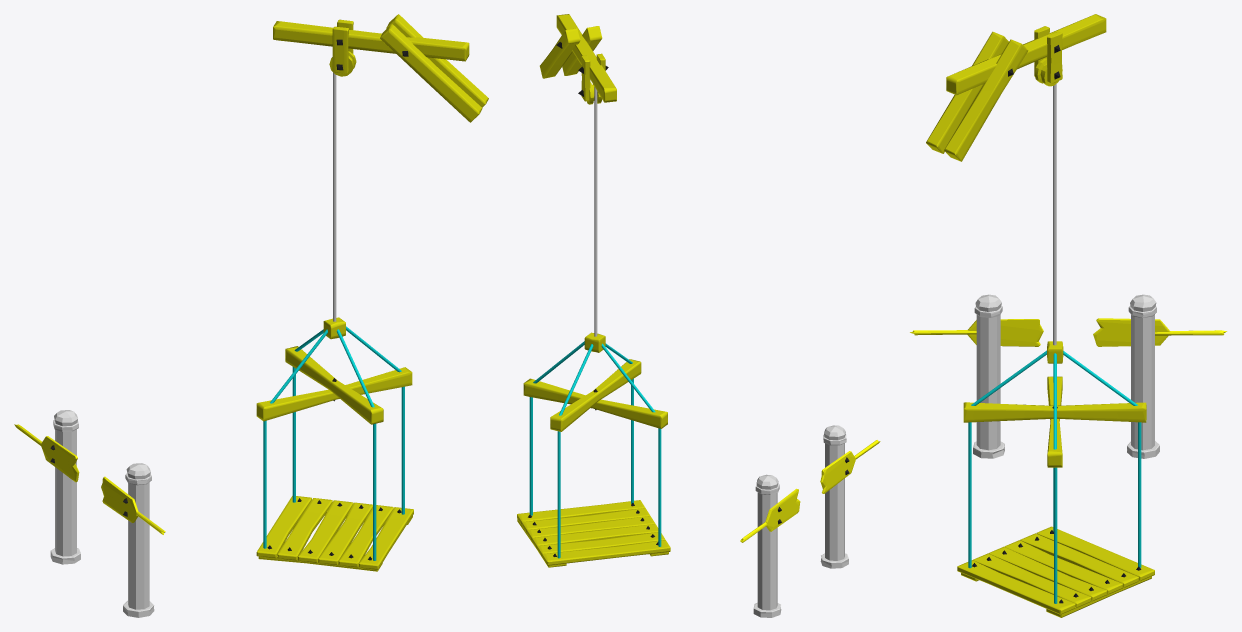
Rendered from ElevatorAndSignsUVGRP.fbx.
The picture shows the model from 3 angles, left to right: view 1: azimuth 30°, elevation 25°; view 2: azimuth 150°, elevation 25°; view 3: azimuth 270°, elevation 25°; orthographic projection. The views are drawn at different scales.
Parts seen in each view (by area): view 1: ElevatorLift, ElevatorSupport, LeftSign, RightSign, ElevatorRope; view 2: ElevatorLift, RightSign, ElevatorSupport, LeftSign, ElevatorRope; view 3: ElevatorLift, ElevatorSupport, RightSign, LeftSign, ElevatorRope.
Boxes of the visible parts, left/top/right/bottom form: ElevatorLift: left=256, top=317, right=413, bottom=571; ElevatorSupport: left=273, top=14, right=488, bottom=122; LeftSign: left=101, top=463, right=165, bottom=617; RightSign: left=14, top=410, right=80, bottom=564; ElevatorRope: left=333, top=72, right=336, bottom=321; ElevatorLift: left=517, top=332, right=670, bottom=567; RightSign: left=740, top=474, right=800, bottom=617; ElevatorSupport: left=539, top=14, right=616, bottom=104; LeftSign: left=820, top=425, right=880, bottom=568; ElevatorRope: left=594, top=86, right=597, bottom=336; ElevatorLift: left=957, top=341, right=1154, bottom=617; ElevatorSupport: left=926, top=14, right=1106, bottom=161; RightSign: left=1093, top=294, right=1226, bottom=458; LeftSign: left=910, top=294, right=1043, bottom=458; ElevatorRope: left=1053, top=84, right=1056, bottom=345.
Size of the model in its own units: 6.18 by 8.85 by 4.58.
